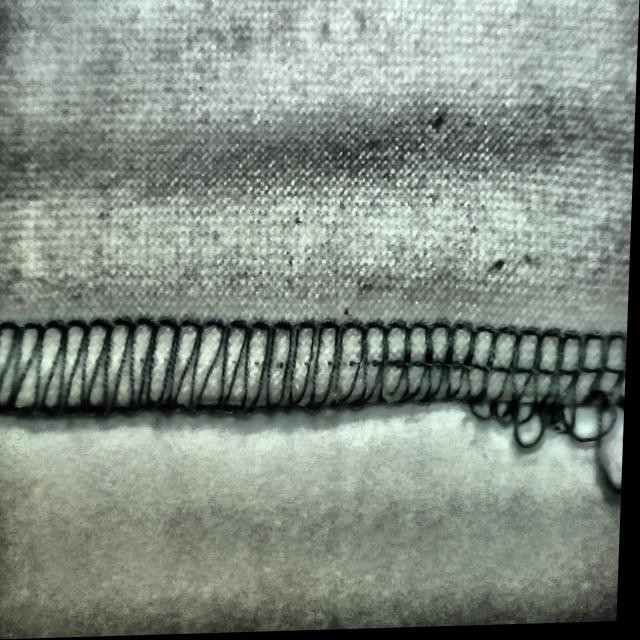Stitch: (469, 327, 630, 503)
